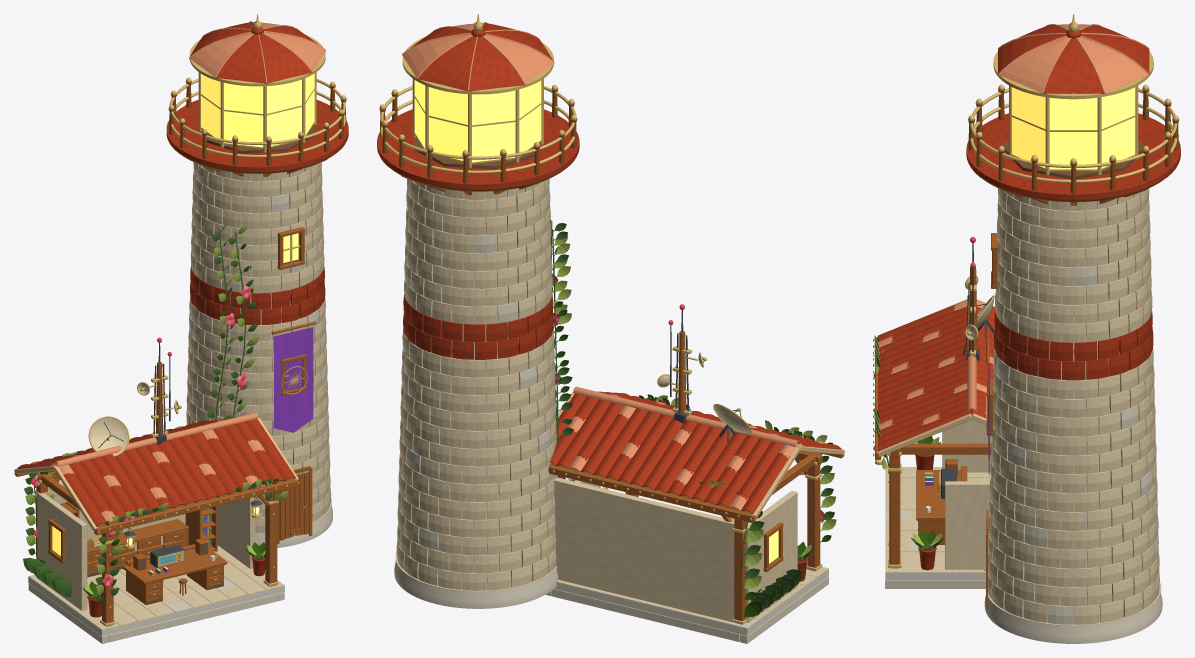
Rendered from contact-lighthouse-v1.glb.
3 renders of one model, left to right at view 1: azimuth 30°, elevation 25°; view 2: azimuth 150°, elevation 25°; view 3: azimuth 270°, elevation 25°, orthographic. The views are drawn at different scales.
Visible parts, largest first — view 1: ContactLighthouse_Gallery_Terracotta_Fascia, ContactLighthouse_Original_Violet_Compass_Flag, ContactLighthouse_contact-hut-west-wall_Solid_Limestone, ContactLighthouse_Lantern_Octagonal_Amber_Panel_2, ContactLighthouse_contact-hut-east-wall_Solid_Limestone, ContactLighthouse_Lantern_Octagonal_Amber_Panel_1, ContactLighthouse_Radio_Hut_Structural_Floor, ContactLighthouse_Hut_1_Grained_Eave_Fascia, ContactLighthouse_Lantern_Curved_Terracotta_Roof_Panel_2, ContactLighthouse_Radio_Desk_Unbroken_Oak_Top, ContactLighthouse_Lantern_Curved_Terracotta_Roof_Panel_1, ContactLighthouse_contact-hut-footing-front_Masonry_Toe (+17 smaller); view 2: ContactLighthouse_contact-hut-back-wall_Solid_Limestone, ContactLighthouse_Gallery_Terracotta_Fascia, ContactLighthouse_Buried_Limestone_Foot, ContactLighthouse_Lantern_Octagonal_Amber_Panel_4, ContactLighthouse_contact-hut-west-wall_Solid_Limestone, ContactLighthouse_Lantern_Octagonal_Amber_Panel_5, ContactLighthouse_Radio_Hut_Structural_Floor, ContactLighthouse_Continuous_Mortar_Tower, ContactLighthouse_Hut_-1_Grained_Eave_Fascia, ContactLighthouse_Lantern_Curved_Terracotta_Roof_Panel_4, ContactLighthouse_Lantern_Curved_Terracotta_Roof_Panel_5, ContactLighthouse_contact-hut-footing-back_Masonry_Toe (+11 smaller); view 3: ContactLighthouse_Gallery_Terracotta_Fascia, ContactLighthouse_contact-hut-east-wall_Solid_Limestone, ContactLighthouse_Buried_Limestone_Foot, ContactLighthouse_Lantern_Octagonal_Amber_Panel_7, ContactLighthouse_Continuous_Mortar_Tower, ContactLighthouse_Lantern_Octagonal_Amber_Panel_6, ContactLighthouse_Lantern_Octagonal_Amber_Panel_0, ContactLighthouse_Lantern_Curved_Terracotta_Roof_Panel_7, ContactLighthouse_Lantern_Curved_Terracotta_Roof_Panel_6, ContactLighthouse_Lantern_Curved_Terracotta_Roof_Panel_0, ContactLighthouse_contact-hut-west-wall_Solid_Limestone, ContactLighthouse_contact-hut-post-front-east_Mortised_Timbe (+69 smaller).
Boxes of the visible parts, x1,y1,x2,y2 form: ContactLighthouse_Gallery_Terracotta_Fascia: [166, 99, 348, 171]; ContactLighthouse_Original_Violet_Compass_Flag: [273, 327, 313, 432]; ContactLighthouse_contact-hut-west-wall_Solid_Limestone: [37, 493, 87, 610]; ContactLighthouse_Lantern_Octagonal_Amber_Panel_2: [224, 82, 263, 147]; ContactLighthouse_contact-hut-east-wall_Solid_Limestone: [217, 497, 255, 568]; ContactLighthouse_Lantern_Octagonal_Amber_Panel_1: [267, 79, 301, 145]; ContactLighthouse_Radio_Hut_Structural_Floor: [28, 576, 284, 636]; ContactLighthouse_Hut_1_Grained_Eave_Fascia: [94, 479, 298, 535]; ContactLighthouse_Lantern_Curved_Terracotta_Roof_Panel_2: [215, 34, 266, 83]; ContactLighthouse_Radio_Desk_Unbroken_Oak_Top: [123, 548, 227, 584]; ContactLighthouse_Lantern_Curved_Terracotta_Roof_Panel_1: [259, 34, 312, 83]; ContactLighthouse_contact-hut-footing-front_Masonry_Toe: [108, 594, 277, 642]; ContactLighthouse_contact-hut-back-wall_Solid_Limestone: [554, 477, 734, 622]; ContactLighthouse_Gallery_Terracotta_Fascia: [377, 109, 579, 189]; ContactLighthouse_Buried_Limestone_Foot: [394, 560, 558, 608]; ContactLighthouse_Lantern_Octagonal_Amber_Panel_4: [472, 90, 515, 162]; ContactLighthouse_contact-hut-west-wall_Solid_Limestone: [746, 490, 797, 622]; ContactLighthouse_Lantern_Octagonal_Amber_Panel_5: [429, 87, 467, 160]; ContactLighthouse_Radio_Hut_Structural_Floor: [554, 569, 828, 635]; ContactLighthouse_Continuous_Mortar_Tower: [419, 189, 540, 589]; ContactLighthouse_Hut_-1_Grained_Eave_Fascia: [548, 464, 755, 523]; ContactLighthouse_Lantern_Curved_Terracotta_Roof_Panel_4: [468, 36, 524, 91]; ContactLighthouse_Lantern_Curved_Terracotta_Roof_Panel_5: [417, 36, 476, 91]; ContactLighthouse_contact-hut-footing-back_Masonry_Toe: [552, 589, 739, 641]; ContactLighthouse_Gallery_Terracotta_Fascia: [966, 113, 1180, 199]; ContactLighthouse_contact-hut-east-wall_Solid_Limestone: [945, 481, 989, 569]; ContactLighthouse_Buried_Limestone_Foot: [984, 593, 1162, 643]; ContactLighthouse_Lantern_Octagonal_Amber_Panel_7: [1049, 97, 1097, 169]; ContactLighthouse_Continuous_Mortar_Tower: [1005, 201, 1133, 624]; ContactLighthouse_Lantern_Octagonal_Amber_Panel_6: [1101, 87, 1135, 168]; ContactLighthouse_Lantern_Octagonal_Amber_Panel_0: [1012, 87, 1045, 168]; ContactLighthouse_Lantern_Curved_Terracotta_Roof_Panel_7: [1042, 38, 1104, 93]; ContactLighthouse_Lantern_Curved_Terracotta_Roof_Panel_6: [1077, 37, 1148, 93]; ContactLighthouse_Lantern_Curved_Terracotta_Roof_Panel_0: [998, 37, 1069, 93]; ContactLighthouse_contact-hut-west-wall_Solid_Limestone: [942, 419, 991, 472]; ContactLighthouse_contact-hut-post-front-east_Mortised_Timbe: [889, 449, 900, 568].
Size of the model in its own units: 11.74 by 17.73 by 8.17.
Materials: 25 (6 with a texture image).
